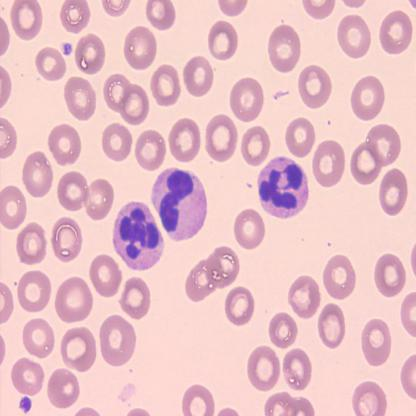Band Neutrophil: (150, 163, 210, 244), (111, 200, 166, 276), (255, 152, 312, 221)
